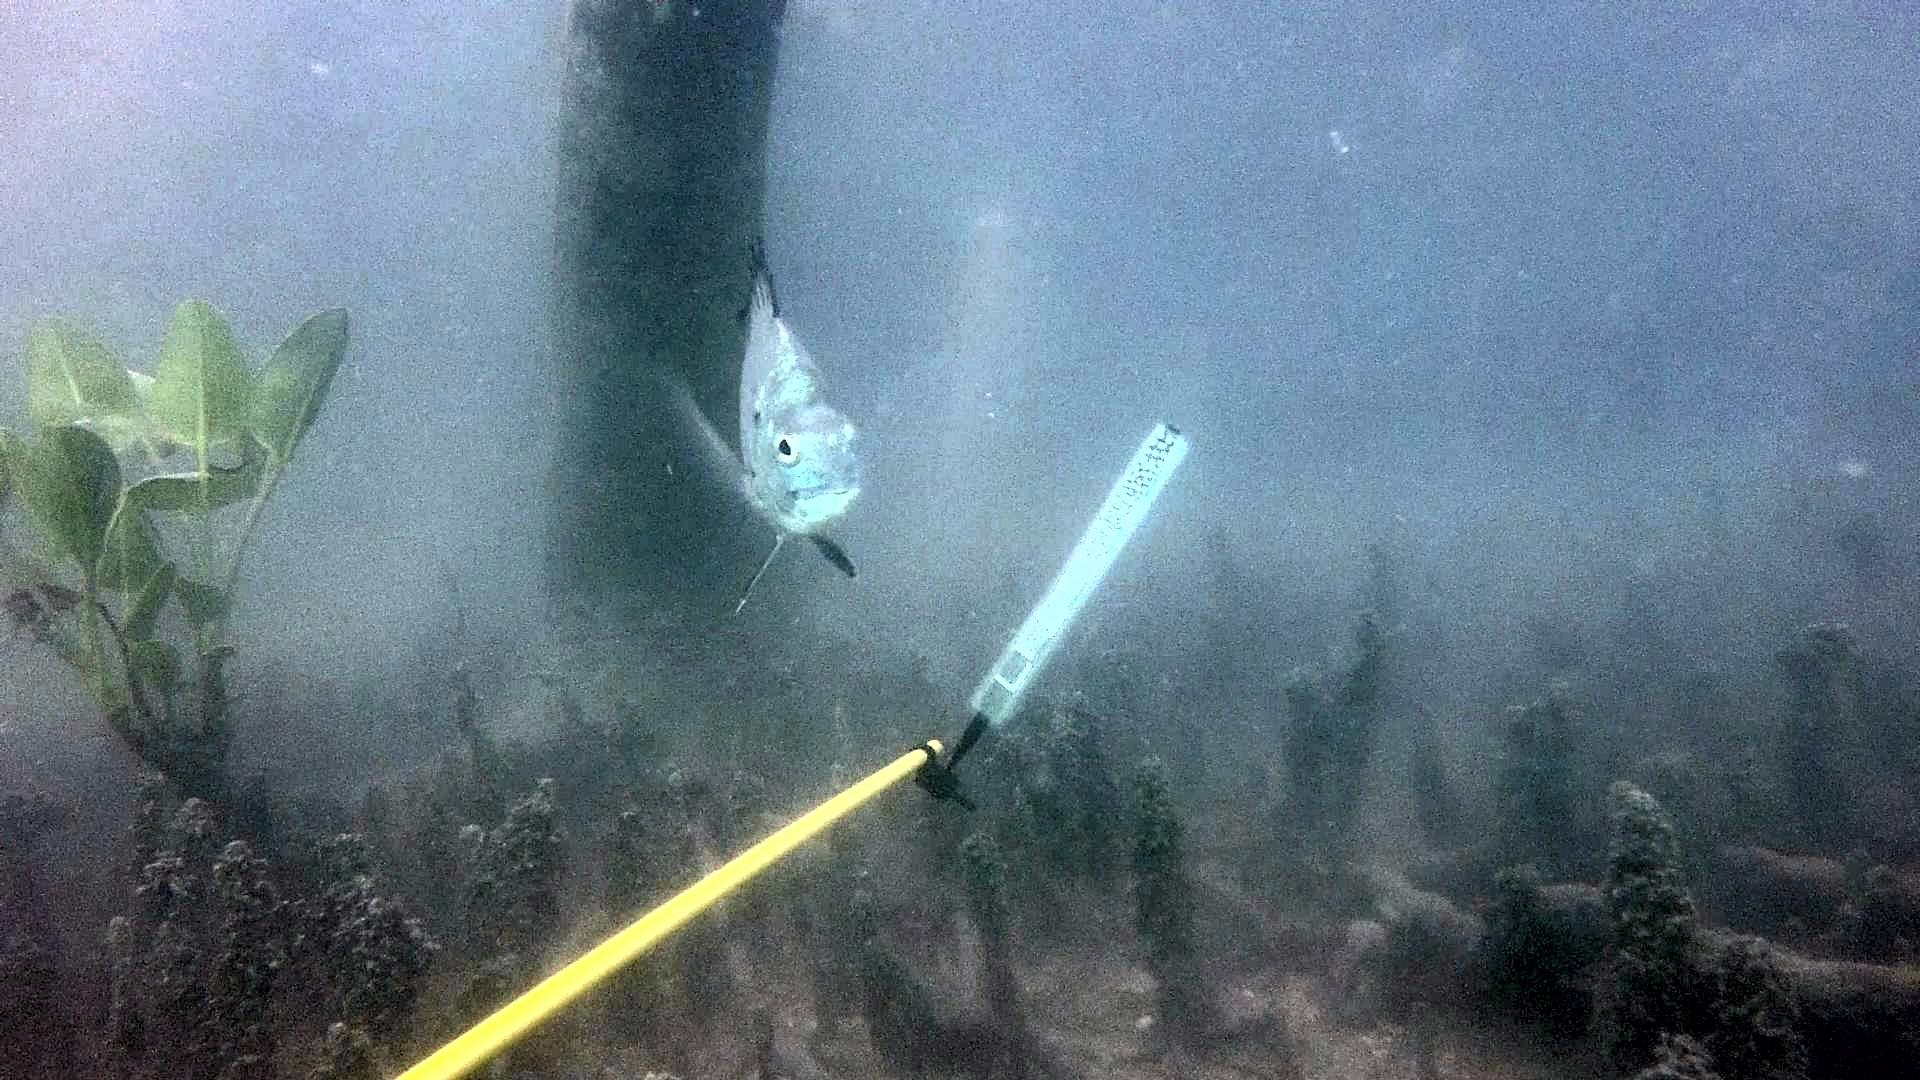acanthopagrus palmaris: (630, 208, 981, 633)
